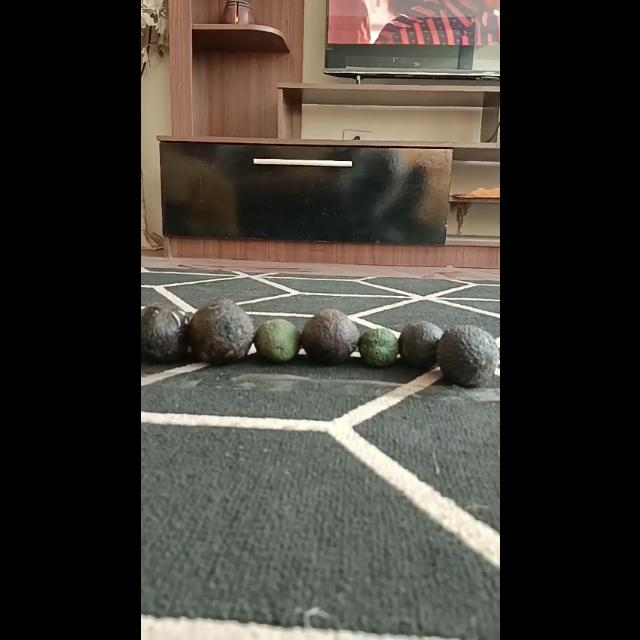Primera: (187, 300, 255, 364), (437, 324, 498, 388), (300, 308, 360, 364), (140, 304, 190, 362)
Segunda: (398, 320, 442, 368), (253, 318, 299, 362)
Tercera: (358, 327, 398, 367)
